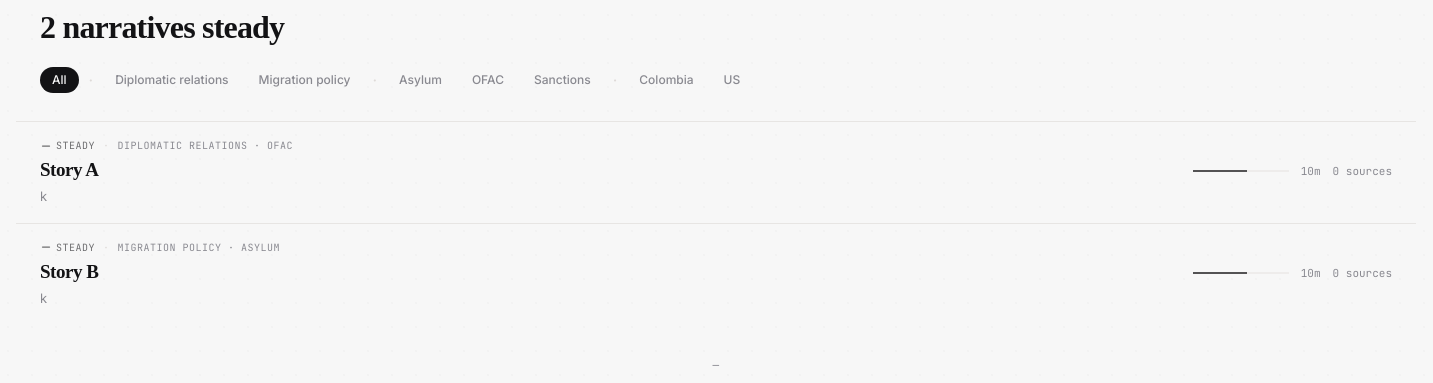
Scenario: Phase 6: dynamic header pills › multi-select within a section uses OR semantics
The image size is (1433, 383).
Expected: the heading "Story A" is shown, [40,159,98,180]
Click the button with test id "pill-keyword-OFAC": (488, 80) [460,67,516,93]
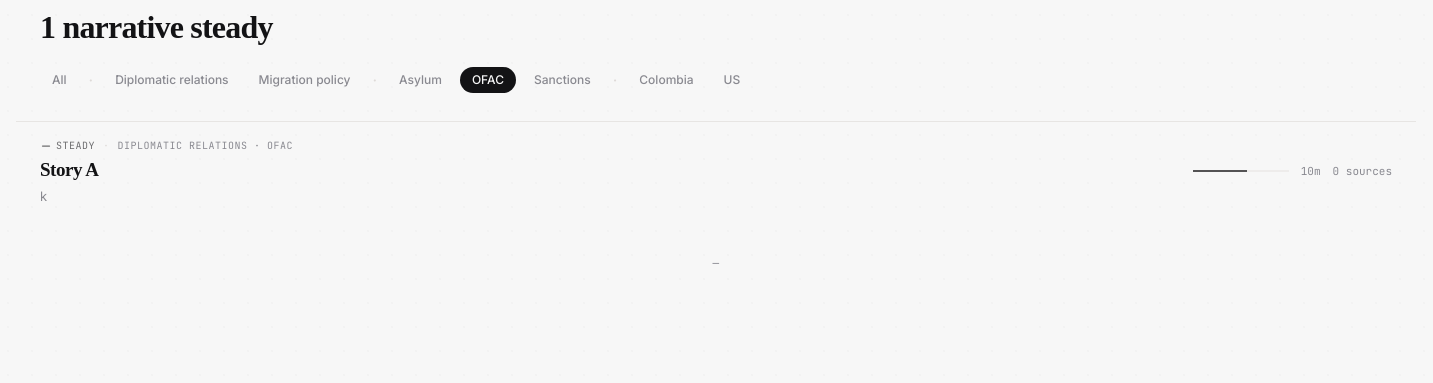
Click the button with test id "pill-keyword-asylum": (420, 80) [387,67,454,93]
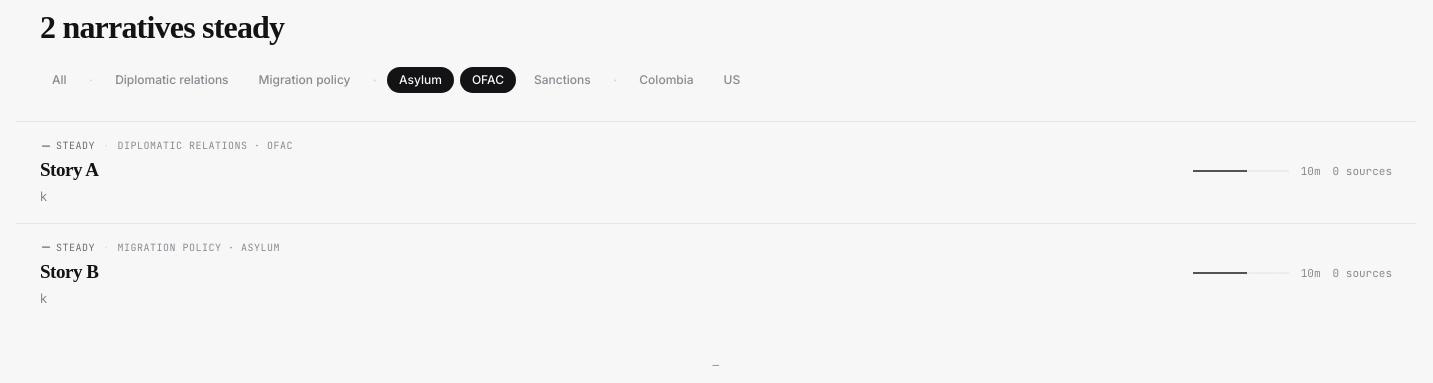
Expected: the heading "Story A" is shown, [40,159,98,180]
Expected: the heading "Story B" is shown, [40,261,98,282]
